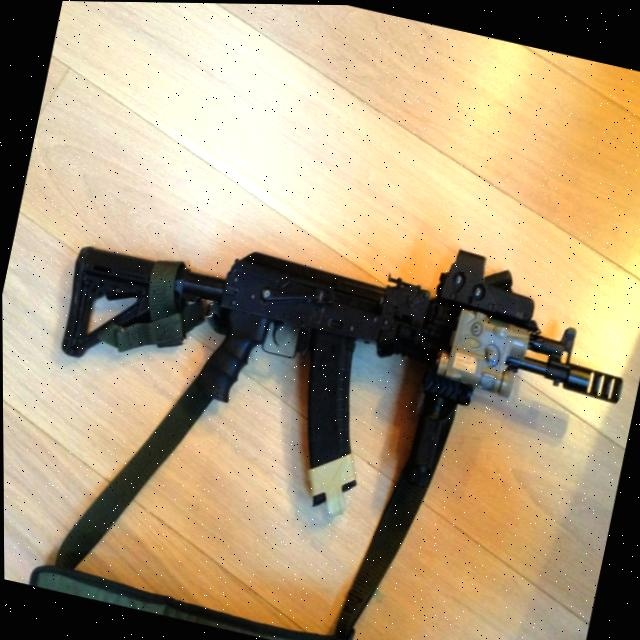firearm: (35, 163, 640, 572)
